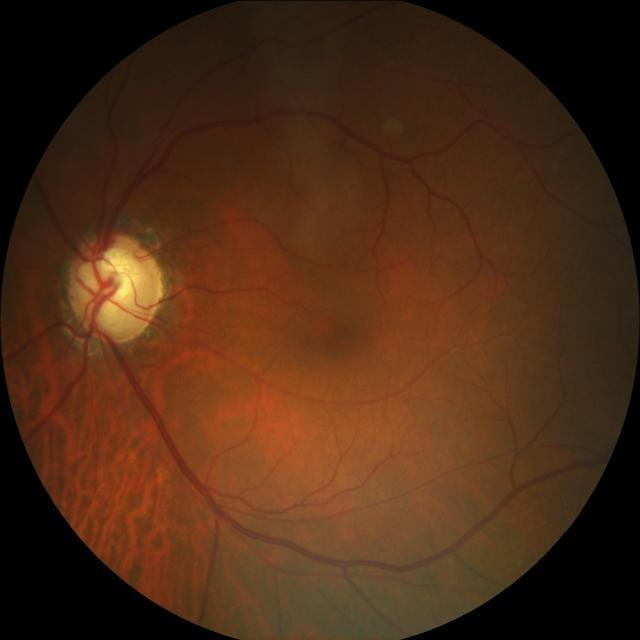OC: (64, 232, 162, 340)
OD: (74, 246, 155, 330)
